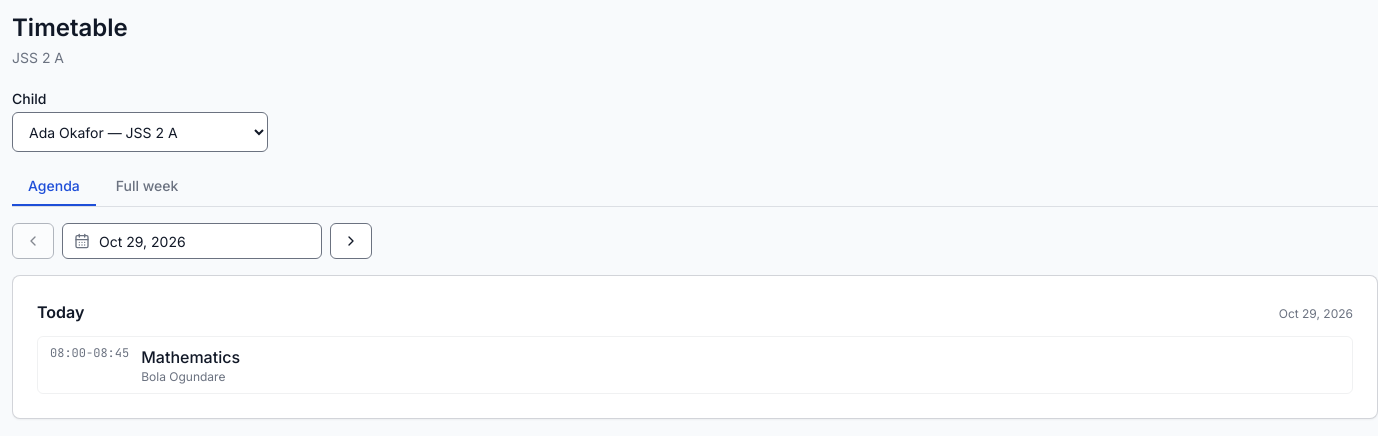
Test: MyTimetablePage › PARENT: switches to the Full week tab, rendering the grid built from the timetable response alone
Expected: the text "Mathematics" is shown, [141, 345, 240, 369]
Click the tab "Full week" at (147, 187), box [100, 168, 194, 206]
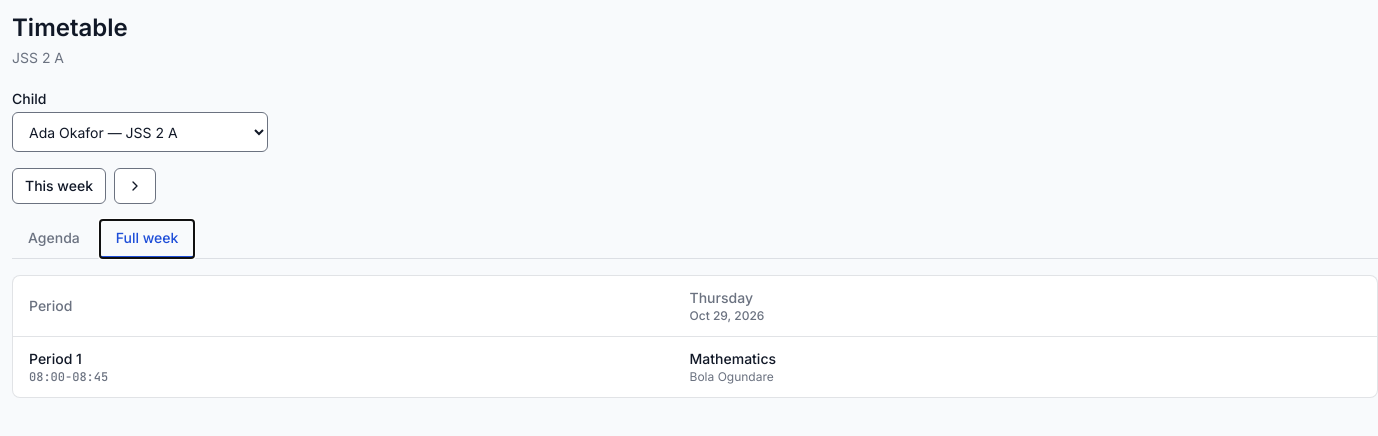
Result: the table is shown at [13, 276, 1377, 397]
